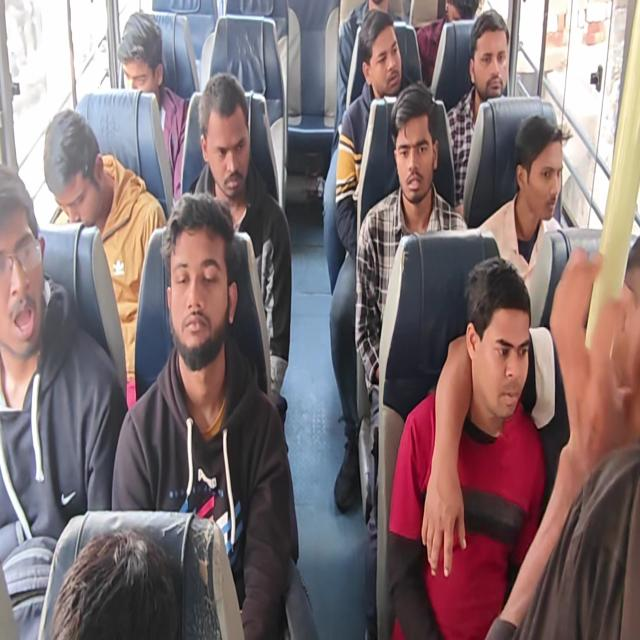person: (47, 525, 185, 640), (162, 196, 246, 365), (0, 156, 53, 356), (463, 258, 527, 416), (30, 108, 111, 224), (195, 69, 260, 203), (383, 88, 448, 200), (604, 213, 640, 398), (514, 120, 568, 221), (120, 8, 174, 102), (356, 12, 411, 101), (464, 13, 510, 94), (434, 0, 483, 27), (365, 0, 392, 10)
